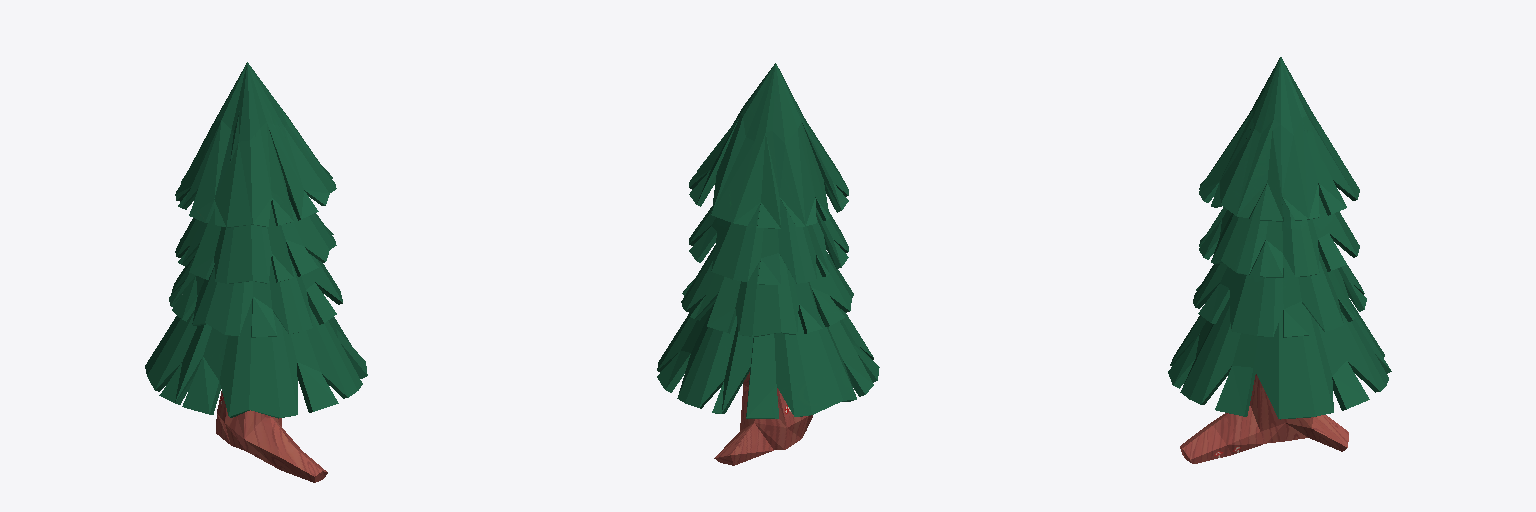
3 renders of one model, left to right at view 1: azimuth 30°, elevation 25°; view 2: azimuth 150°, elevation 25°; view 3: azimuth 270°, elevation 25°, orthographic.
Visible parts, largest first — view 1: pCone2_initialShadingGroup; view 2: pCone2_initialShadingGroup; view 3: pCone2_initialShadingGroup.
Boxes of the visible parts, x1=… form: pCone2_initialShadingGroup: x1=145, y1=62, x2=367, y2=482; pCone2_initialShadingGroup: x1=657, y1=63, x2=879, y2=465; pCone2_initialShadingGroup: x1=1168, y1=57, x2=1391, y2=463.
Size of the model in its own units: 4.03 by 7.76 by 4.03.
1 materials, 1 textured.